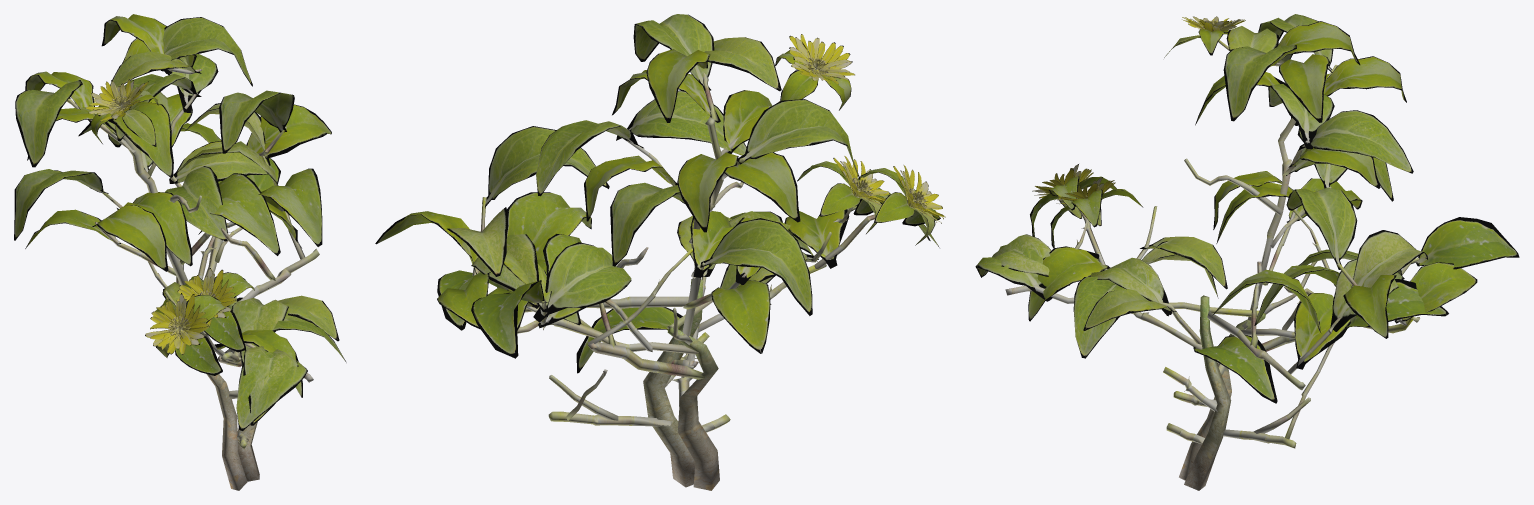
File: bush1.obj
The picture shows the model from 3 angles, left to right: view 1: azimuth 30°, elevation 25°; view 2: azimuth 150°, elevation 25°; view 3: azimuth 270°, elevation 25°; orthographic projection. The views are drawn at different scales.
Visible parts, largest first — view 1: didelta_spinosa_small_LOD0; view 2: didelta_spinosa_small_LOD0; view 3: didelta_spinosa_small_LOD0.
Part boxes in pixels (left/top/right/bottom): didelta_spinosa_small_LOD0: left=14, top=14, right=346, bottom=490; didelta_spinosa_small_LOD0: left=375, top=14, right=945, bottom=490; didelta_spinosa_small_LOD0: left=975, top=14, right=1519, bottom=490.
Size of the model in its own units: 0.1203 by 0.1375 by 0.1554.
